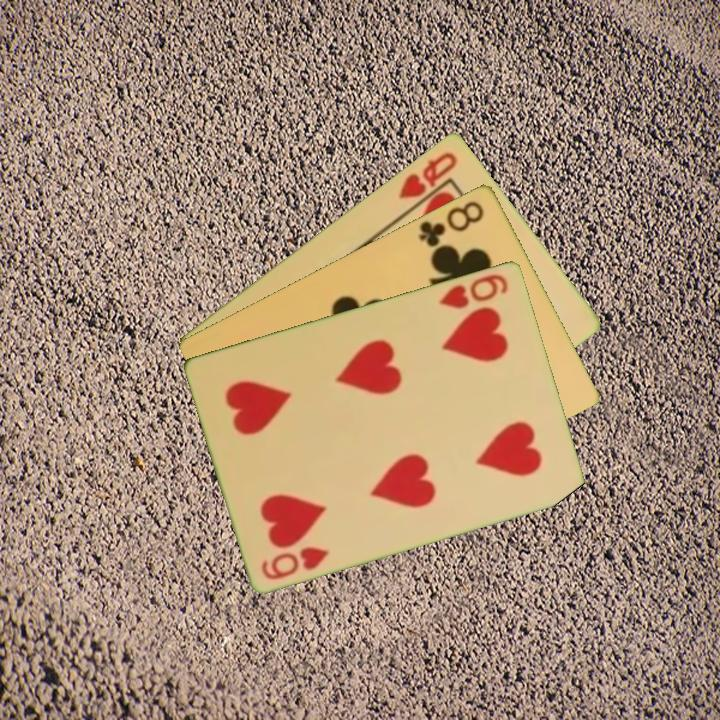6h: (435, 270, 511, 311), (257, 542, 332, 582)
8c: (415, 196, 487, 250)
Qh: (395, 147, 460, 201)
